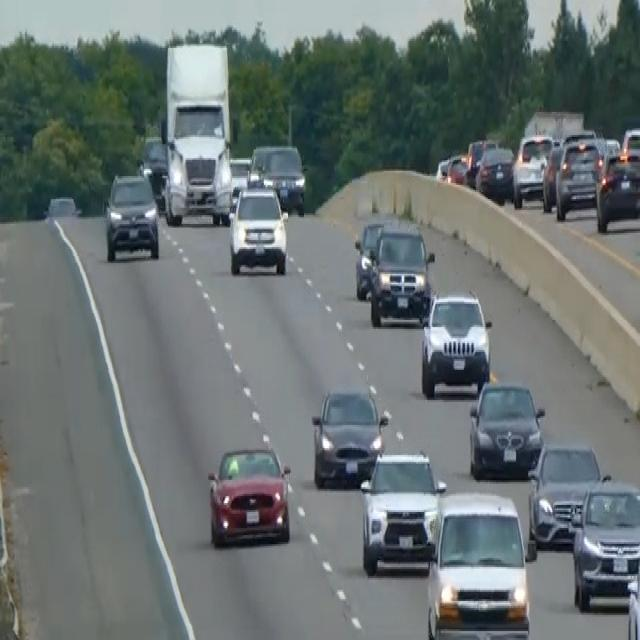car: (424, 489, 533, 638), (359, 448, 446, 574), (570, 474, 639, 612), (206, 441, 292, 547), (310, 382, 390, 487), (527, 439, 603, 549), (467, 377, 545, 480), (368, 222, 434, 327), (227, 182, 289, 276), (103, 169, 159, 261), (247, 141, 306, 215), (554, 135, 603, 219), (594, 149, 639, 233), (511, 130, 554, 208), (353, 217, 386, 299), (474, 144, 515, 203), (137, 134, 168, 206), (465, 135, 498, 187), (541, 140, 564, 212), (626, 539, 639, 638), (228, 154, 251, 196), (620, 124, 639, 170), (445, 151, 469, 187)
jeep: (419, 288, 492, 398)
lorry: (161, 41, 233, 226)
